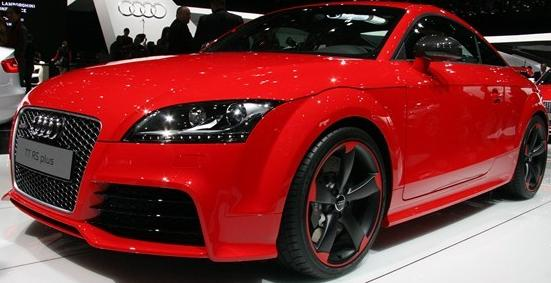front_view: (4, 91, 295, 260)
headlight: (120, 91, 289, 147)
side_glass: (396, 7, 509, 66)
